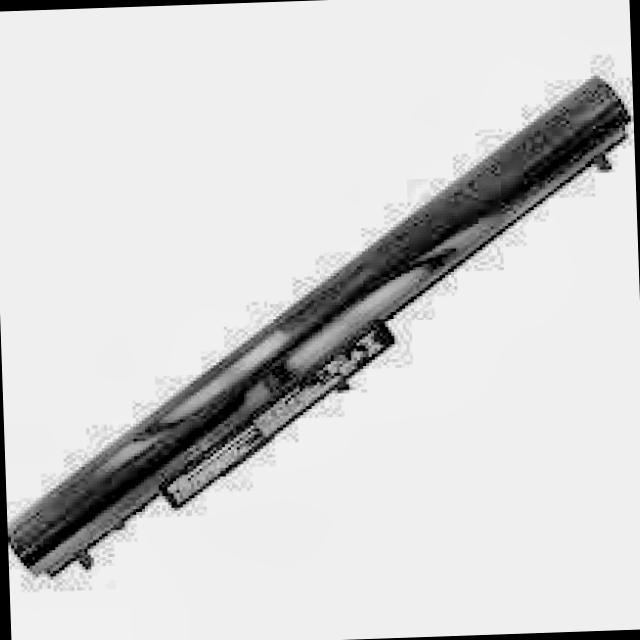Battery: (0, 71, 640, 592)
